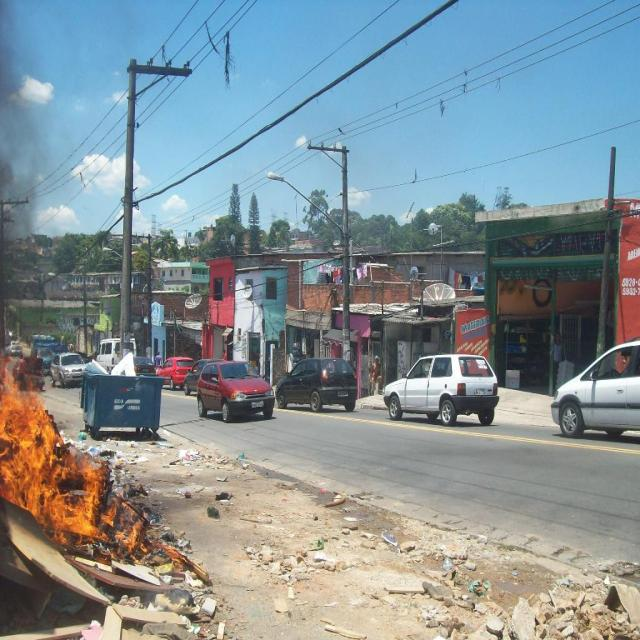car: (382, 354, 497, 424)
